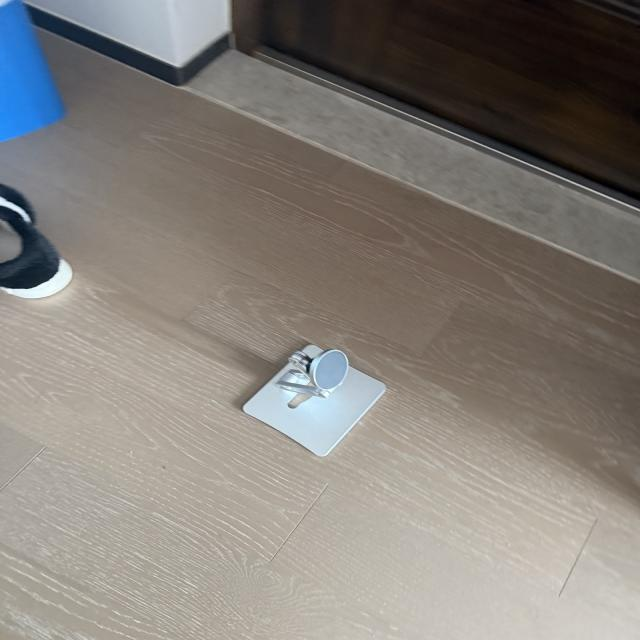phone holder: (224, 328, 394, 462)
